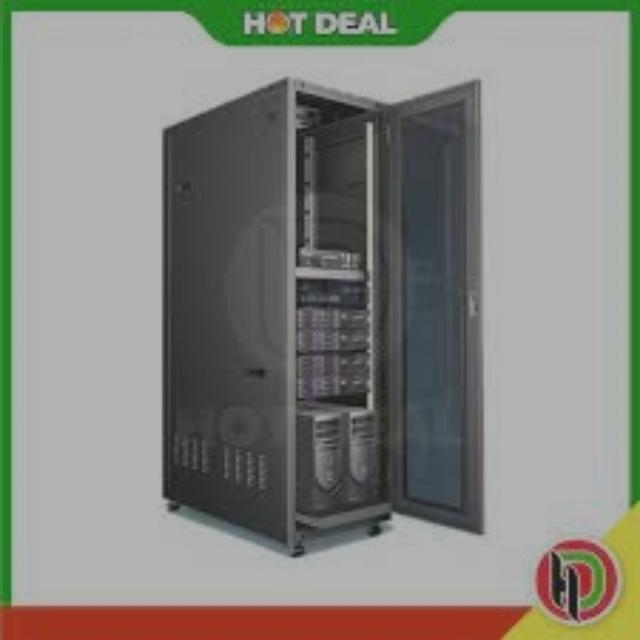Server: (152, 73, 500, 553)
